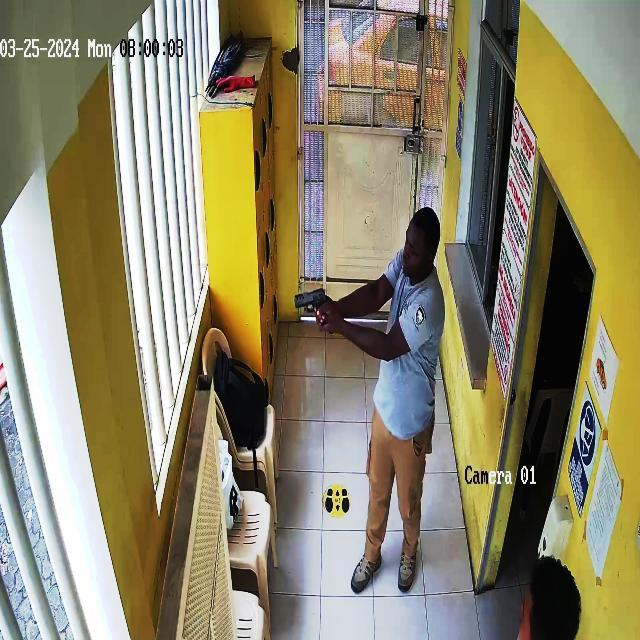Gun: (293, 277, 341, 331)
